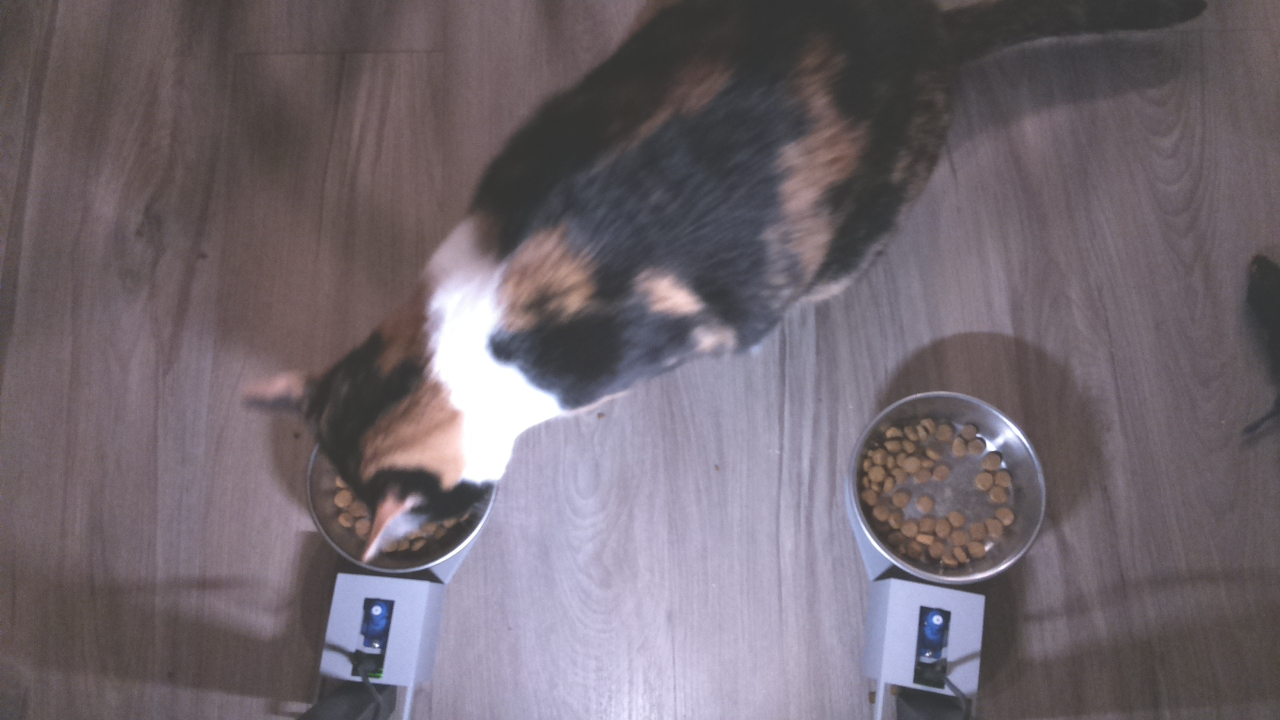bella_eating: (248, 286, 528, 580)
open_bowl: (843, 385, 1048, 596)
